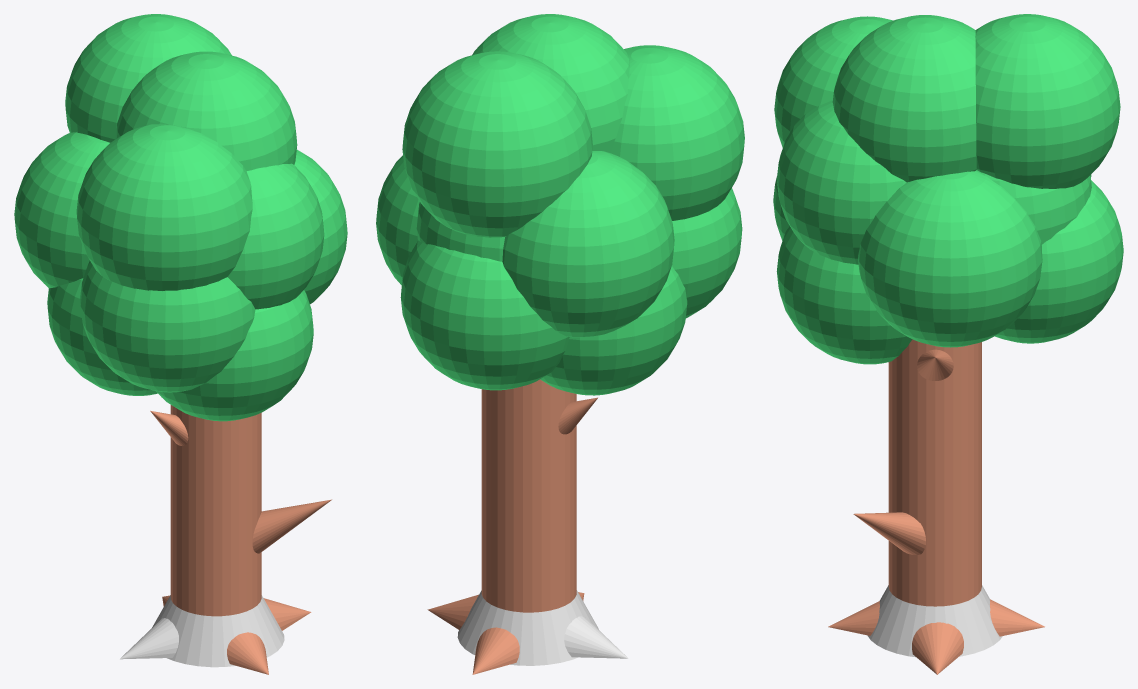
Rendered from tree_type1.glb.
3 renders of one model, left to right at view 1: azimuth 30°, elevation 25°; view 2: azimuth 150°, elevation 25°; view 3: azimuth 270°, elevation 25°, orthographic. The views are drawn at different scales.
Visible parts, largest first — view 1: Sphere.009, Cylinder, Sphere.011, Sphere.008, Sphere.012, Sphere.006, Sphere.015, Sphere.013, Cone.002, Sphere.007, Sphere.010, Cone (+4 smaller); view 2: Sphere.012, Sphere.013, Cylinder, Sphere.004, Sphere.009, Sphere.008, Sphere.007, Sphere.011, Cone.002, Sphere.010, Sphere.014, Cone.005 (+3 smaller); view 3: Sphere.010, Cylinder, Sphere.012, Sphere.008, Sphere.006, Sphere.004, Sphere.015, Sphere.009, Cone.002, Sphere.014, Cone.003, Cone (+3 smaller).
Part boxes in pixels (box(x1,y1,x2,y2)): Sphere.009: box(76, 124, 252, 290); Cylinder: box(170, 405, 261, 616); Sphere.011: box(80, 260, 255, 392); Sphere.008: box(115, 51, 297, 171); Sphere.012: box(65, 14, 231, 142); Sphere.006: box(228, 163, 324, 309); Sphere.015: box(156, 290, 313, 421); Sphere.013: box(14, 132, 109, 288); Cone.002: box(152, 595, 284, 667); Sphere.007: box(47, 278, 157, 395); Sphere.010: box(294, 149, 347, 304); Cone: box(252, 499, 331, 553); Sphere.012: box(402, 51, 592, 237); Sphere.013: box(502, 151, 674, 337); Cylinder: box(481, 379, 576, 612); Sphere.004: box(400, 240, 569, 390); Sphere.009: box(610, 45, 744, 220); Sphere.008: box(472, 14, 629, 152); Sphere.007: box(540, 266, 687, 395); Sphere.011: box(672, 188, 742, 318); Cone.002: box(457, 590, 598, 665); Sphere.010: box(376, 155, 419, 285); Sphere.014: box(416, 202, 504, 261); Cone.005: box(564, 616, 628, 658); Sphere.010: box(858, 171, 1042, 347); Cylinder: box(888, 339, 981, 606); Sphere.012: box(975, 14, 1120, 188); Sphere.008: box(832, 15, 976, 182); Sphere.006: box(776, 100, 906, 264); Sphere.004: box(994, 180, 1123, 343); Sphere.015: box(776, 226, 912, 364); Sphere.009: box(774, 16, 892, 147); Cone.002: box(867, 585, 1002, 657); Sphere.014: box(975, 170, 1091, 244); Cone.003: box(912, 622, 963, 674); Cone: box(853, 512, 925, 554).
Size of the model in its own units: 7.29 by 14.21 by 7.53.
